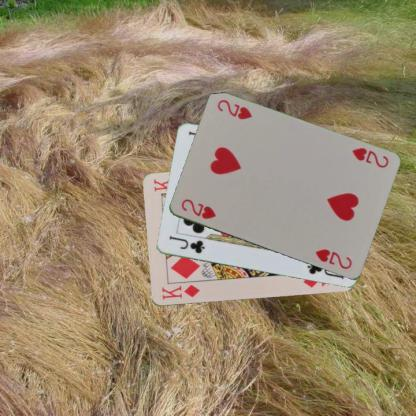2h: (178, 196, 217, 221), (349, 145, 389, 169)
Jc: (165, 233, 206, 256)
Kd: (159, 282, 201, 301)
